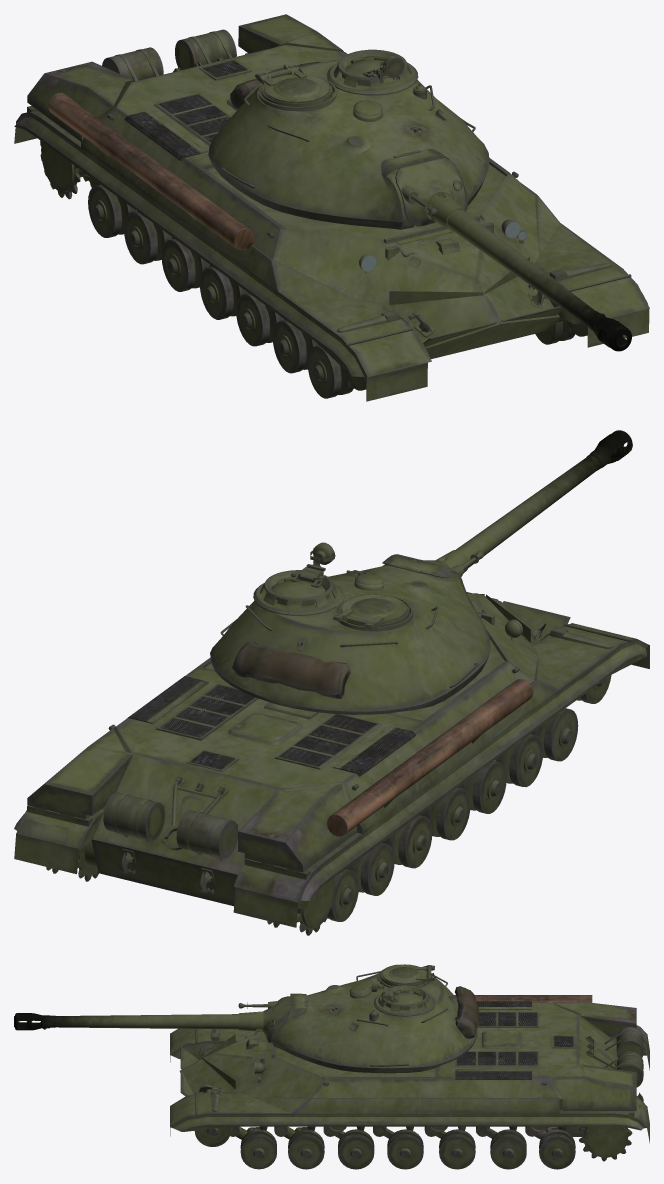
3 renders of one model, top to bottom at view 1: azimuth 30°, elevation 25°; view 2: azimuth 150°, elevation 25°; view 3: azimuth 270°, elevation 25°, orthographic. The views are drawn at different scales.
Parts seen in each view (by area): view 1: Wanne, turret, cannon, radL3, radL2, radL5, radL4, radL1, radL6, radL7, radL0, radR7; view 2: Wanne, turret, cannon, radL4, radL3, radL6, radL5, radL2, radL7, radL0, radL1; view 3: Wanne, turret, cannon, radR0, radR6, radR1, radR7, radR3, radR4, radR2, radR5, radR8.
Boxes of the visible parts, <box> form: Wanne: <box>14,14,649,401</box>; turret: <box>208,49,489,229</box>; cannon: <box>428,208,632,351</box>; radL3: <box>161,238,211,291</box>; radL2: <box>124,211,173,264</box>; radL5: <box>236,293,284,346</box>; radL4: <box>199,266,248,319</box>; radL1: <box>88,184,135,237</box>; radL6: <box>272,320,318,373</box>; radL7: <box>307,345,353,398</box>; radL0: <box>40,140,100,199</box>; radR7: <box>535,319,575,344</box>; Wanne: <box>14,570,649,927</box>; turret: <box>210,542,490,714</box>; cannon: <box>456,430,632,567</box>; radL4: <box>420,787,470,840</box>; radL3: <box>382,815,432,868</box>; radL6: <box>495,734,543,787</box>; radL5: <box>458,760,506,813</box>; radL2: <box>346,842,394,895</box>; radL7: <box>531,708,578,761</box>; radL0: <box>267,877,335,935</box>; radL1: <box>327,869,358,921</box>; Wanne: <box>170,995,649,1143</box>; turret: <box>238,964,479,1073</box>; cannon: <box>14,1003,244,1030</box>; radR0: <box>579,1126,632,1161</box>; radR6: <box>288,1127,324,1169</box>; radR1: <box>539,1127,575,1169</box>; radR7: <box>240,1127,276,1169</box>; radR3: <box>439,1129,475,1169</box>; radR4: <box>387,1129,423,1169</box>; radR2: <box>490,1129,526,1169</box>; radR5: <box>338,1129,374,1169</box>; radR8: <box>194,1127,230,1146</box>.
Size of the model in its own units: 3.56 by 2.74 by 9.68.
Materials: 1 (1 with a texture image).
